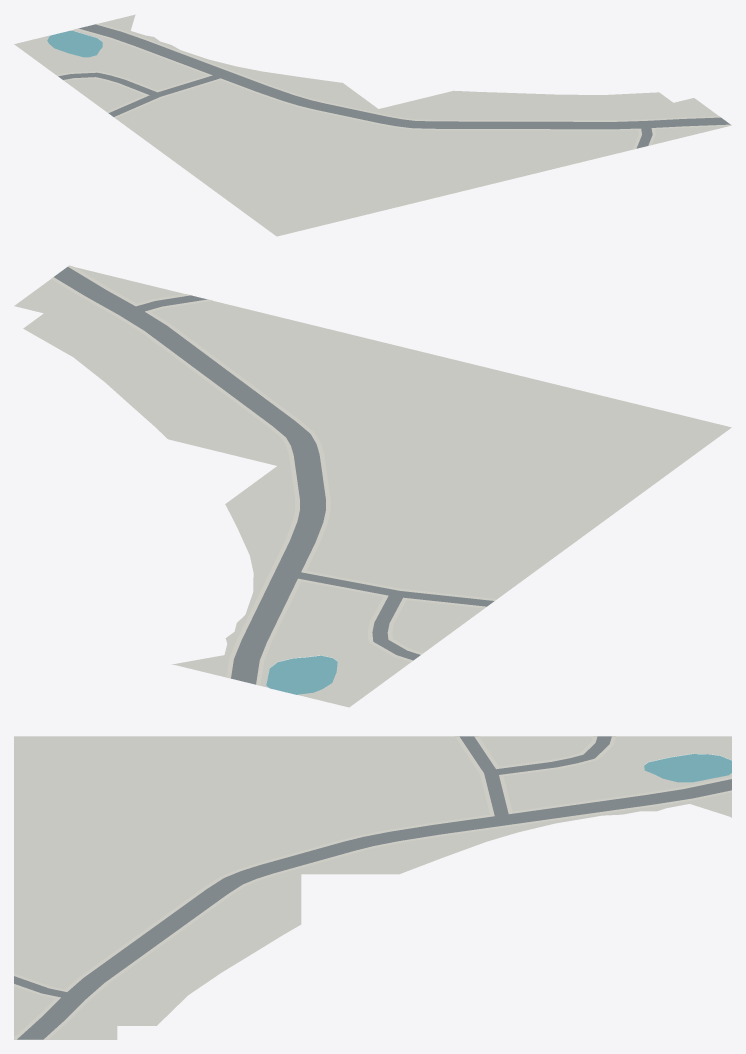
The picture shows the model from 3 angles, top to bottom: view 1: azimuth 30°, elevation 25°; view 2: azimuth 150°, elevation 25°; view 3: azimuth 270°, elevation 25°; orthographic projection. The views are drawn at different scales.
Visible parts, largest first — view 1: city; view 2: city; view 3: city.
Boxes of the visible parts, bbox=[...] form: city: bbox=[14, 14, 731, 236]; city: bbox=[14, 265, 731, 707]; city: bbox=[14, 736, 731, 1039].
Bounding box in the file's own units: 500 × 0.4 × 500.
